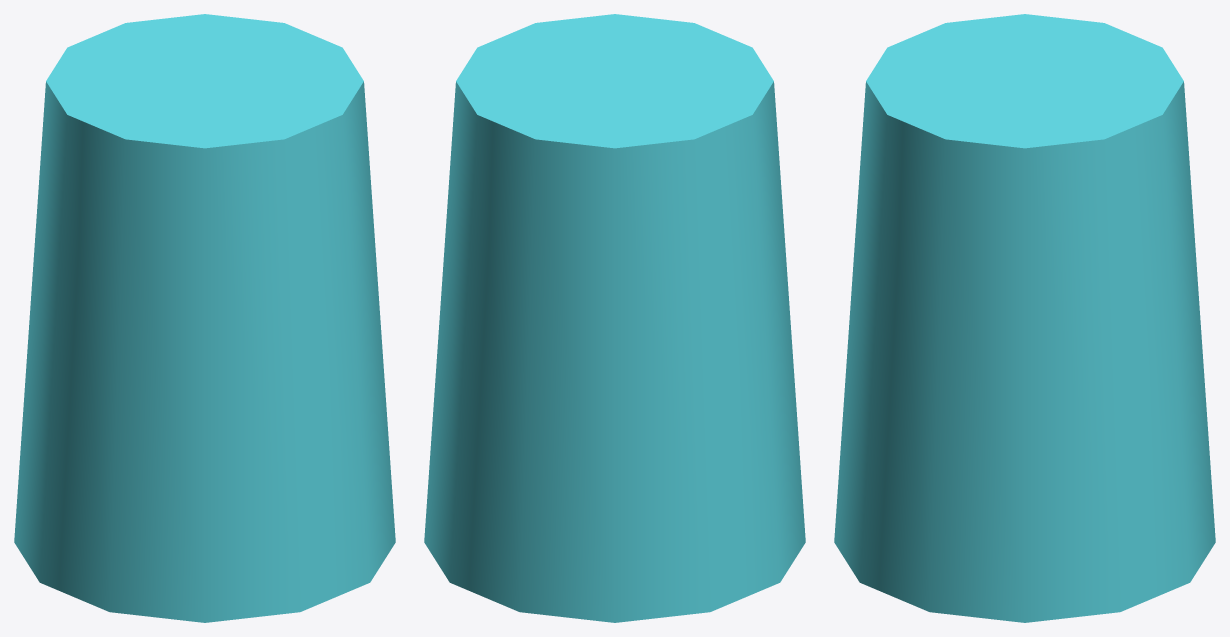
The model's file is eye_wash_station.glb.
The picture shows the model from 3 angles, left to right: view 1: azimuth 30°, elevation 25°; view 2: azimuth 150°, elevation 25°; view 3: azimuth 270°, elevation 25°; orthographic projection.
Visible parts, largest first — view 1: eye_wash_station-node; view 2: eye_wash_station-node; view 3: eye_wash_station-node.
Part boxes in pixels (x1,y1,x2,y2): eye_wash_station-node: (14,14,395,622); eye_wash_station-node: (424,14,805,622); eye_wash_station-node: (834,14,1215,622).
Bounding box in the file's own units: 0.6 × 0.8 × 0.6.
